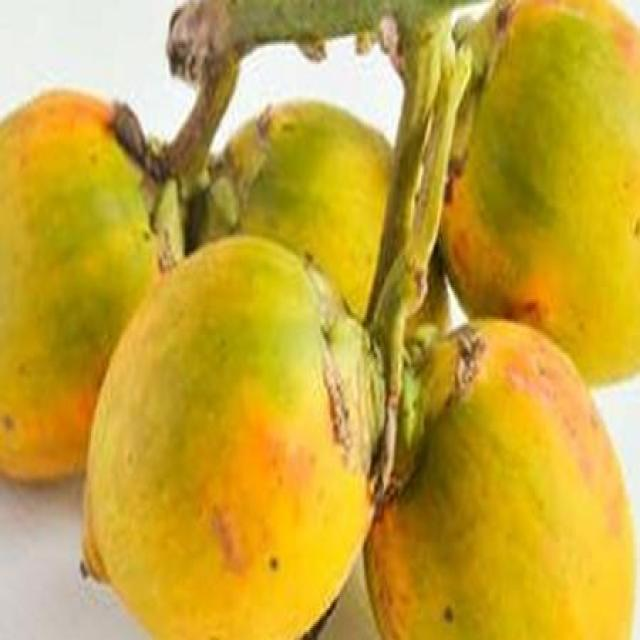good: (82, 235, 391, 638), (361, 319, 634, 638), (438, 0, 639, 393), (0, 90, 161, 488)
